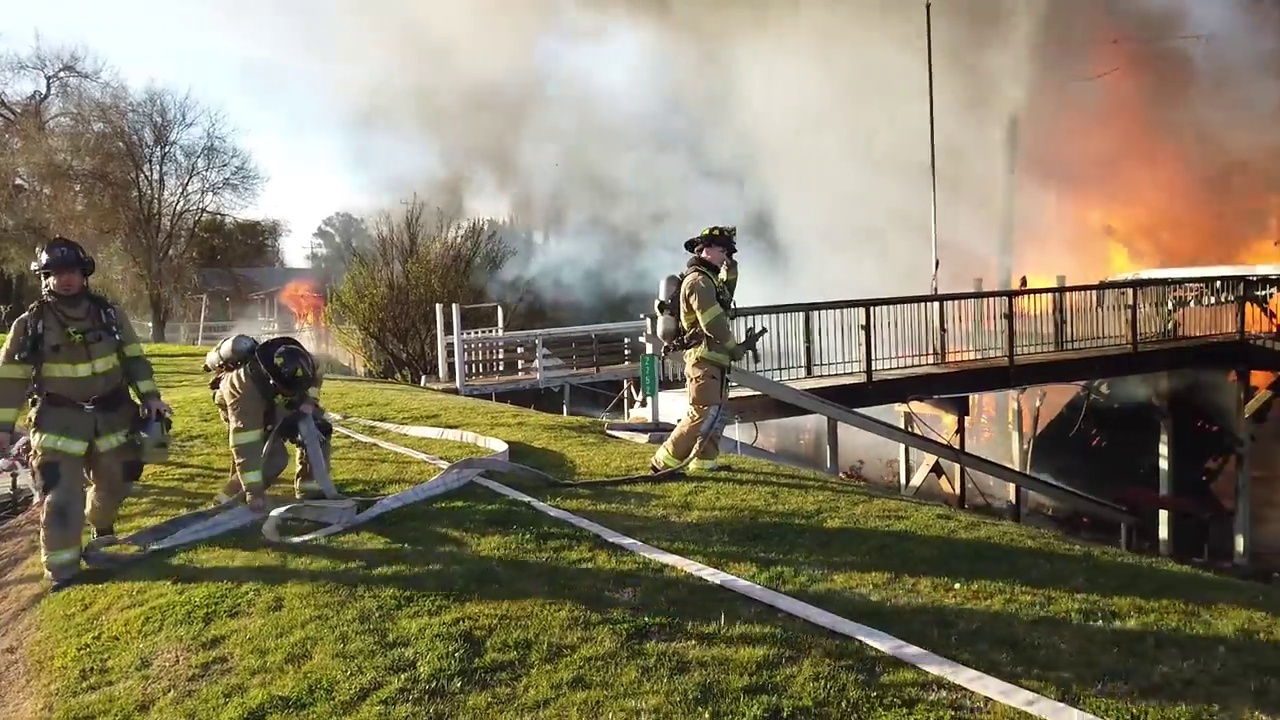fire: (934, 214, 1280, 337), (1090, 211, 1152, 282), (276, 272, 333, 329), (1247, 197, 1279, 264)
smoke: (345, 1, 888, 313), (1003, 1, 1279, 215), (895, 5, 1002, 213), (1106, 371, 1246, 443), (837, 423, 900, 487), (747, 420, 826, 468), (969, 393, 1016, 465), (1019, 387, 1082, 437), (895, 222, 935, 297), (858, 406, 901, 423)
